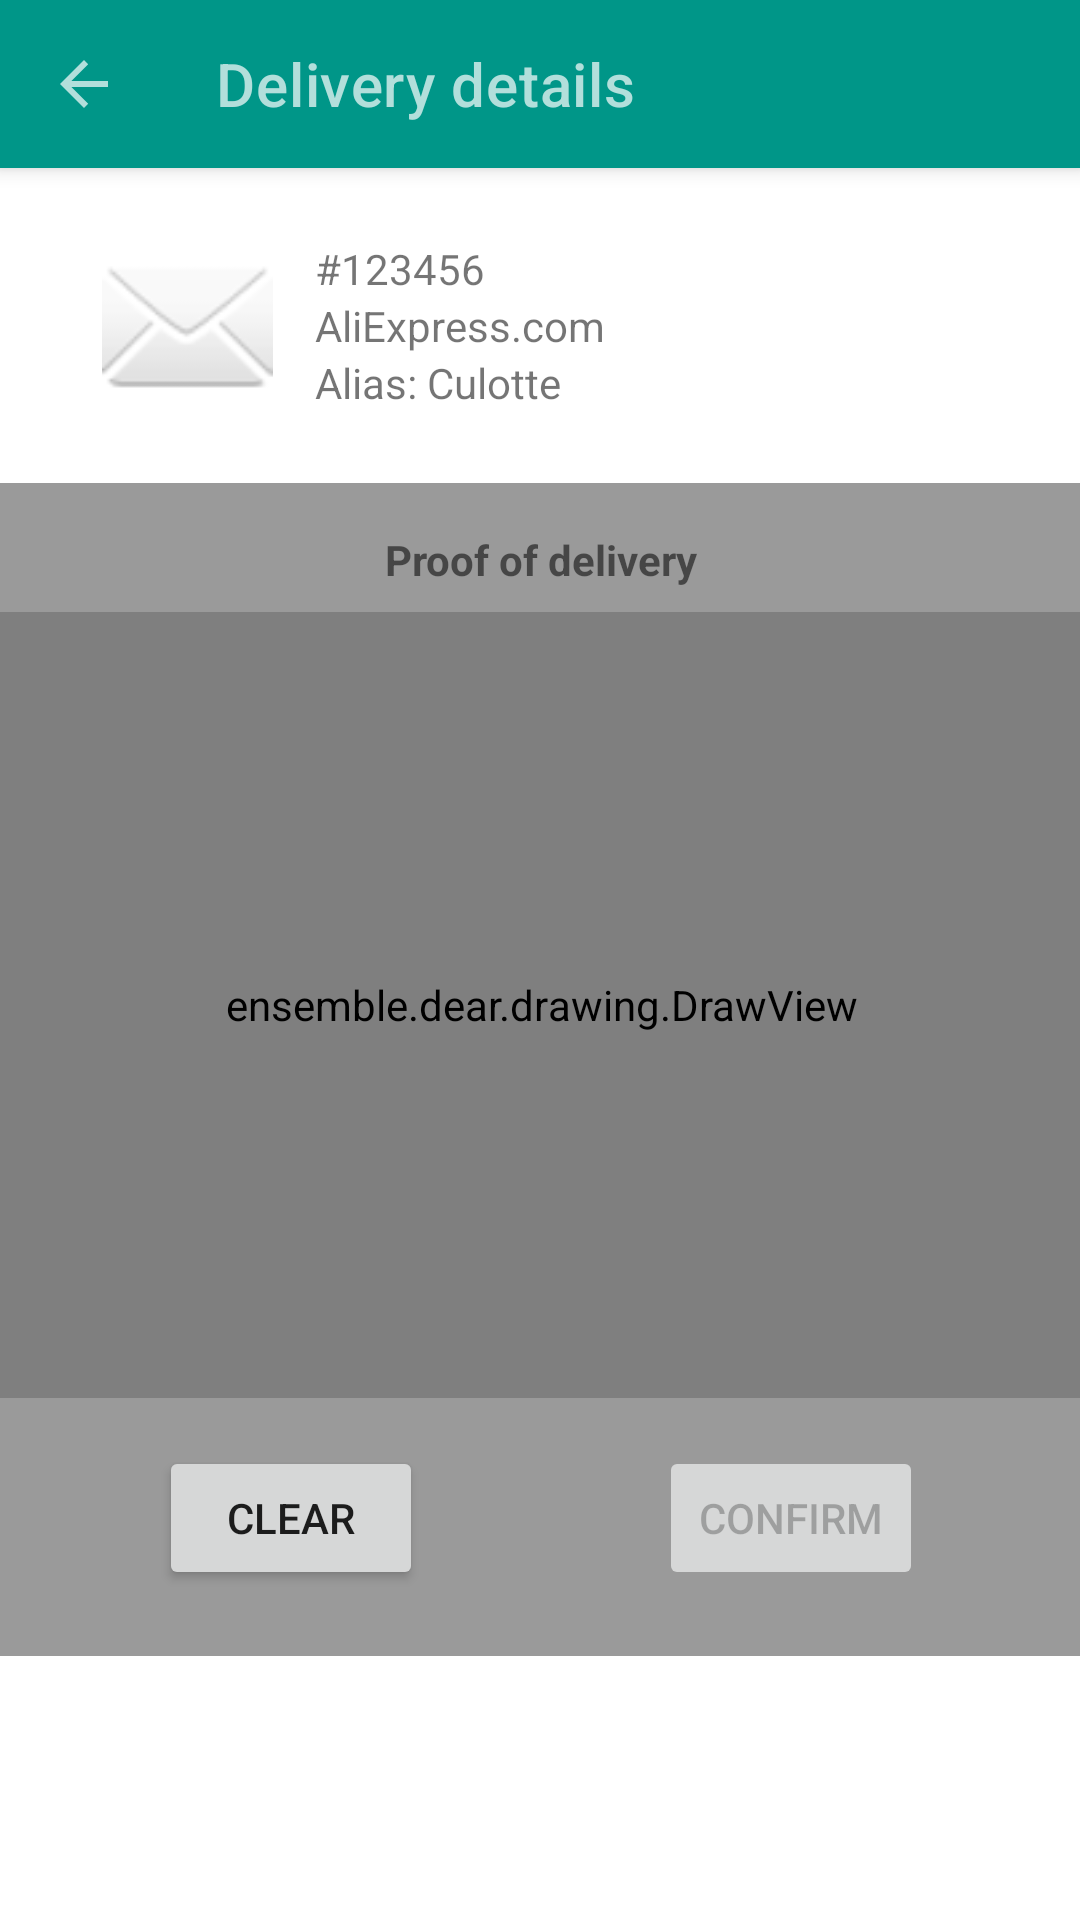

Named icons in this screenshot (1080px×1920px) and their bounding boxes, (x1, y1, x2, y2):
email: (102, 270, 273, 387)
